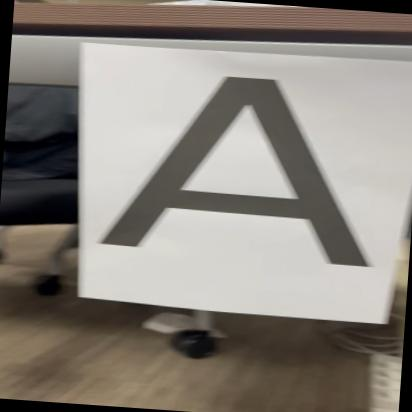seat: (88, 61, 404, 276)
